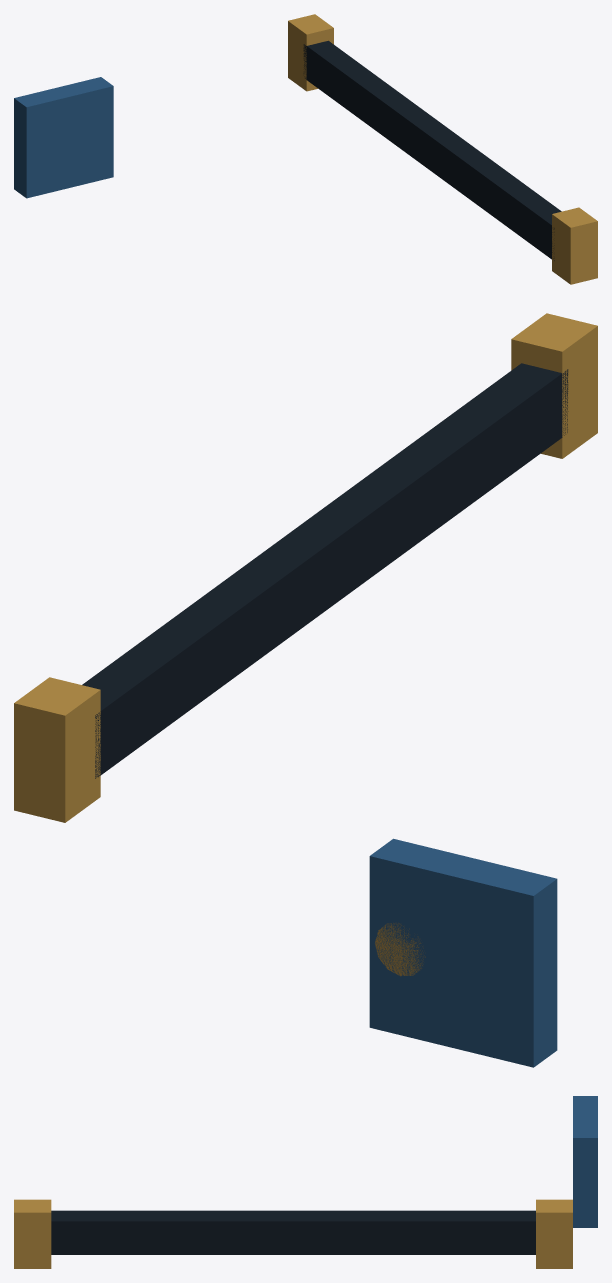
File: pellet_level.obj
3 views of the same model, one above another, from view 1: azimuth 30°, elevation 25°; view 2: azimuth 150°, elevation 25°; view 3: azimuth 270°, elevation 25° (orthographic). The views are drawn at different scales.
Parts seen in each view (by area): view 1: pellet_level; view 2: pellet_level; view 3: pellet_level.
Boxes of the visible parts, <box> form: pellet_level: <box>14,14,597,284</box>; pellet_level: <box>14,313,597,1067</box>; pellet_level: <box>14,1096,597,1268</box>.
Size of the model in its own units: 0.53 by 0.2 by 0.94.
